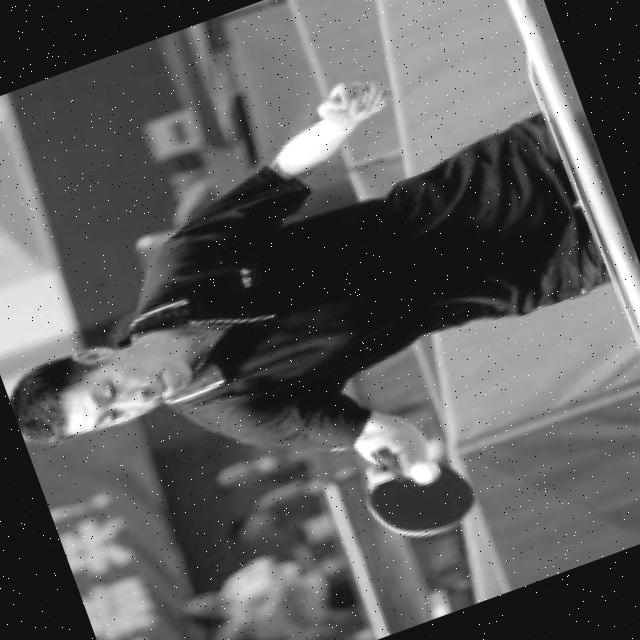ping-pong-ball: (406, 456, 442, 489)
